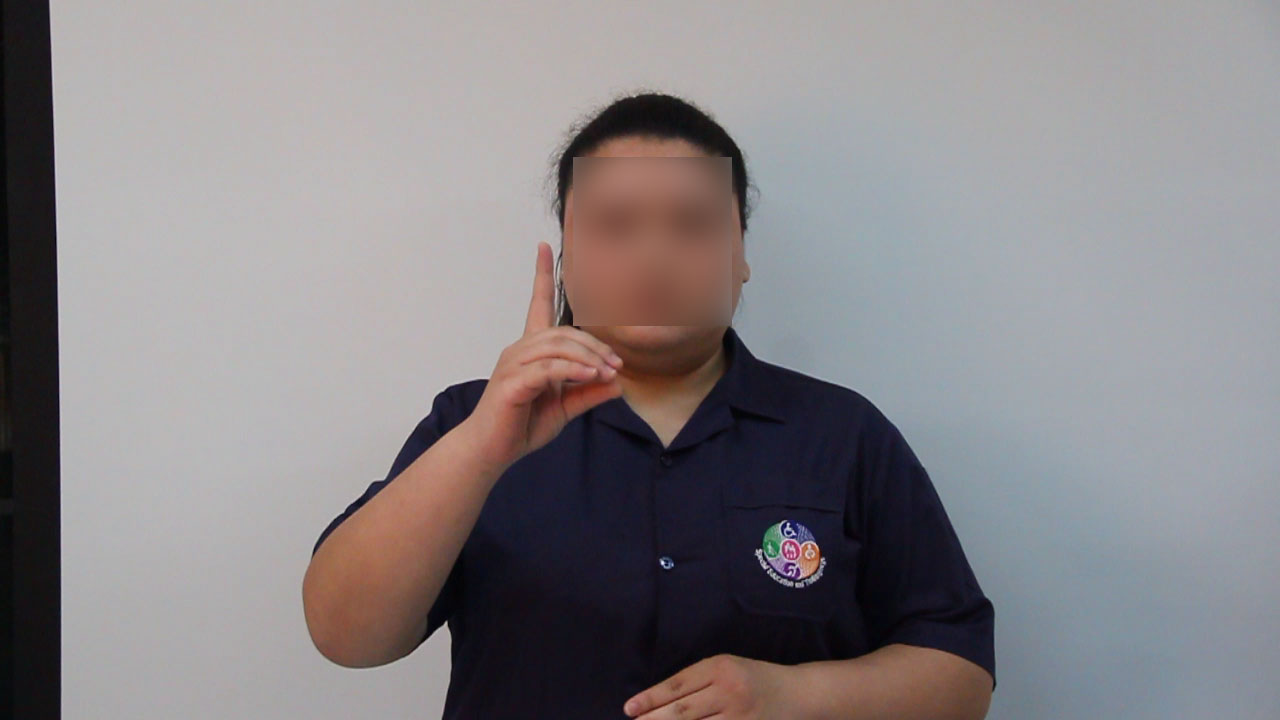dor: (479, 232, 632, 463)
